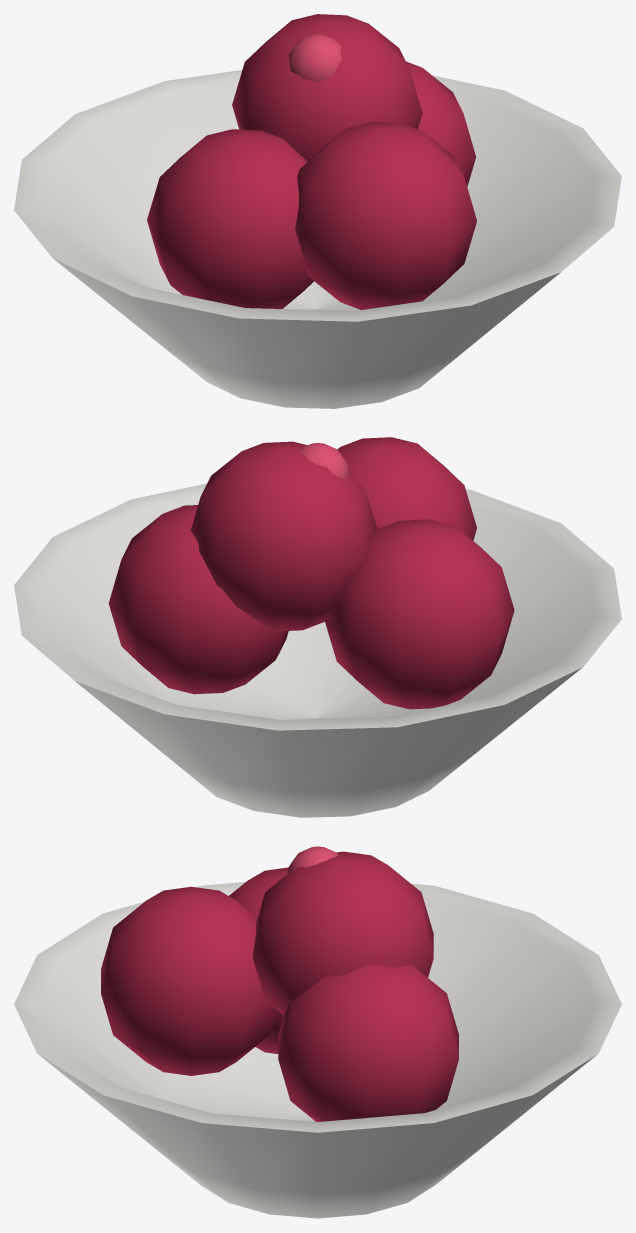
File: plum_bowl.glb
The picture shows the model from 3 angles, top to bottom: view 1: azimuth 30°, elevation 25°; view 2: azimuth 150°, elevation 25°; view 3: azimuth 270°, elevation 25°; orthographic projection.
Parts seen in each view (by area): view 1: root; view 2: root; view 3: root.
Boxes of the visible parts, <box> form: root: <box>14,14,621,408</box>; root: <box>14,437,621,817</box>; root: <box>14,846,621,1218</box>.
Bounding box in the file's own units: 0.48 × 0.275 × 0.48.
